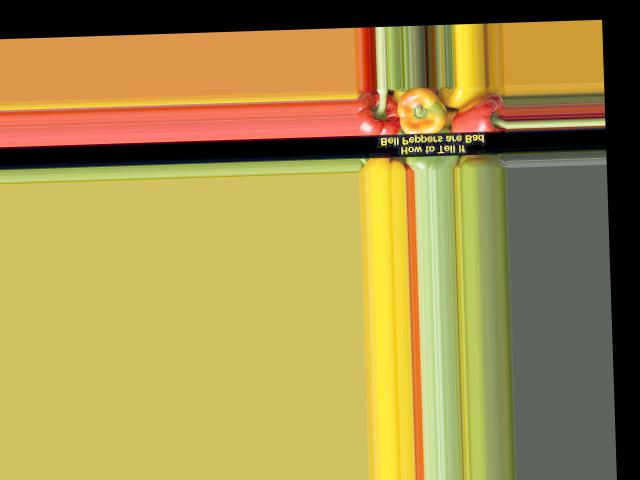bell_pepper: (358, 88, 403, 138)
